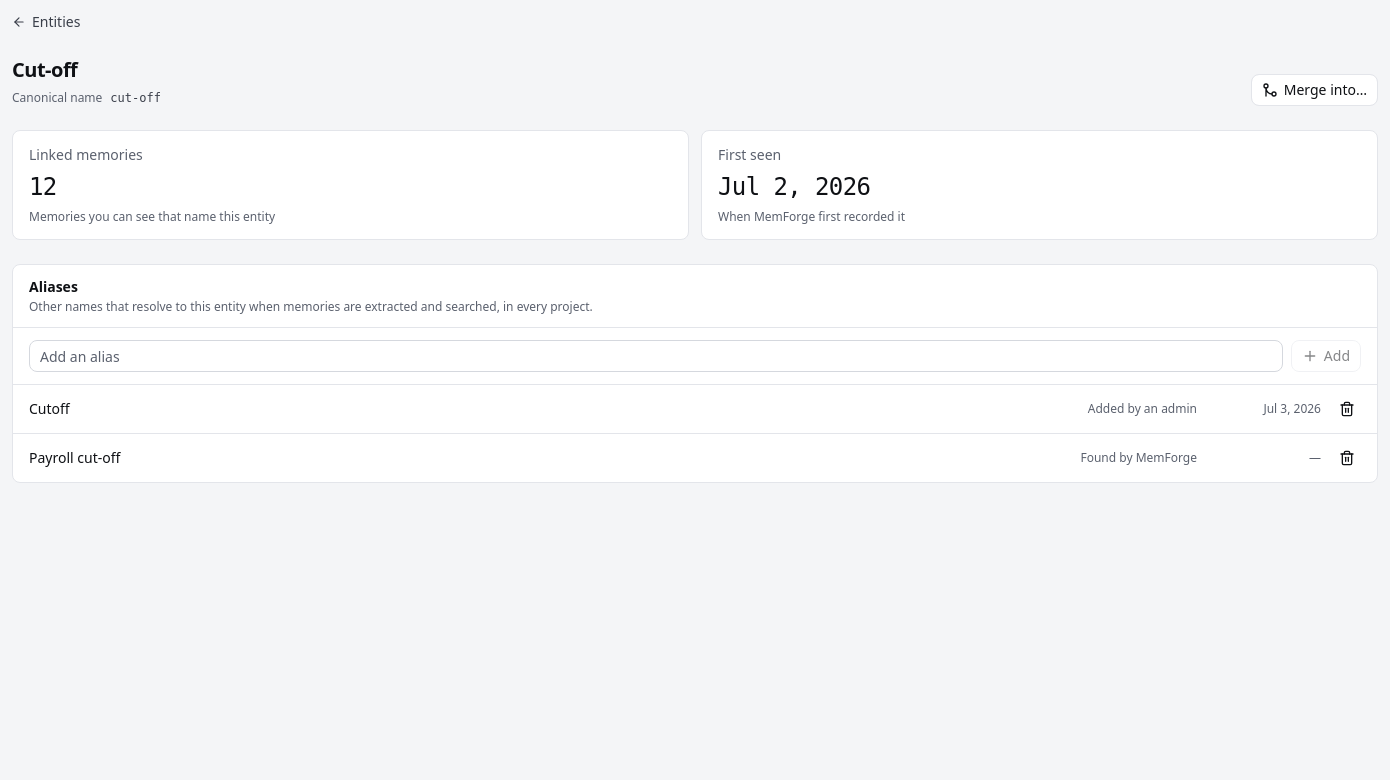
Test: a failed alias change's notice clears when the next change starts
The image size is (1390, 780).
Type "Payroll cutoff" into the field named "New alias" at [656, 356], box [29,340,1283,372]
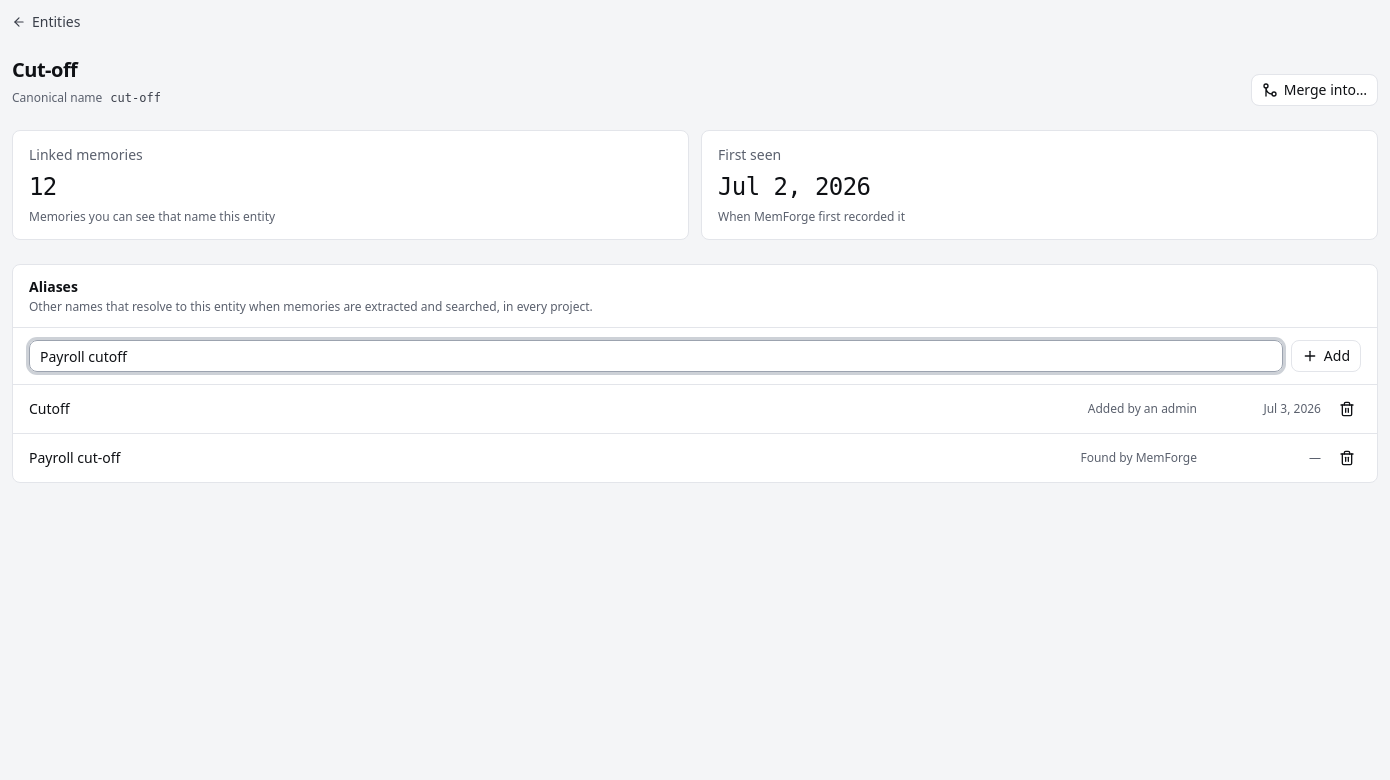
Click the button "Add" at [1326, 356], box [1291,340,1361,372]
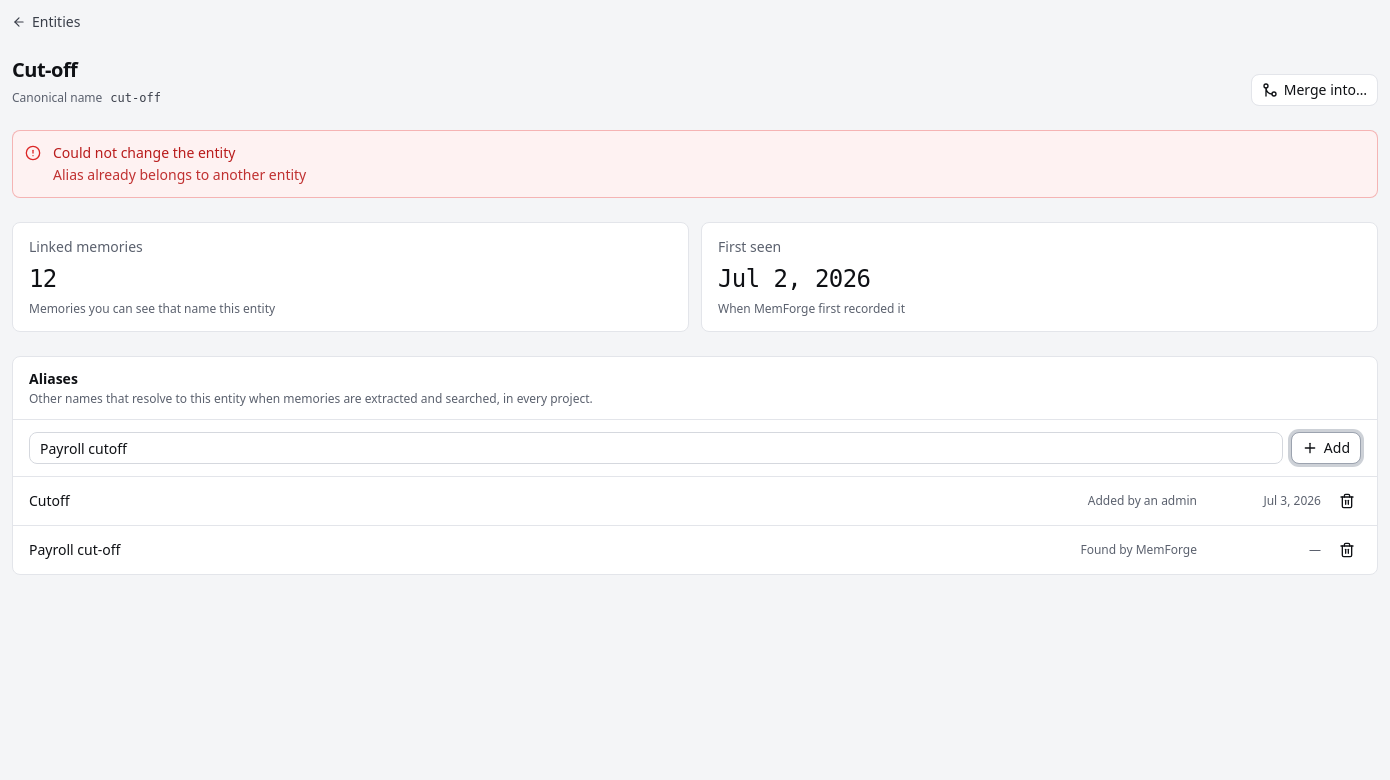
Expected: the message shows "Could not change the entity", [53,143,235,162]
Replace the text in the field named "New alias" with "Cut off date" at [656, 448], box [29,432,1283,464]
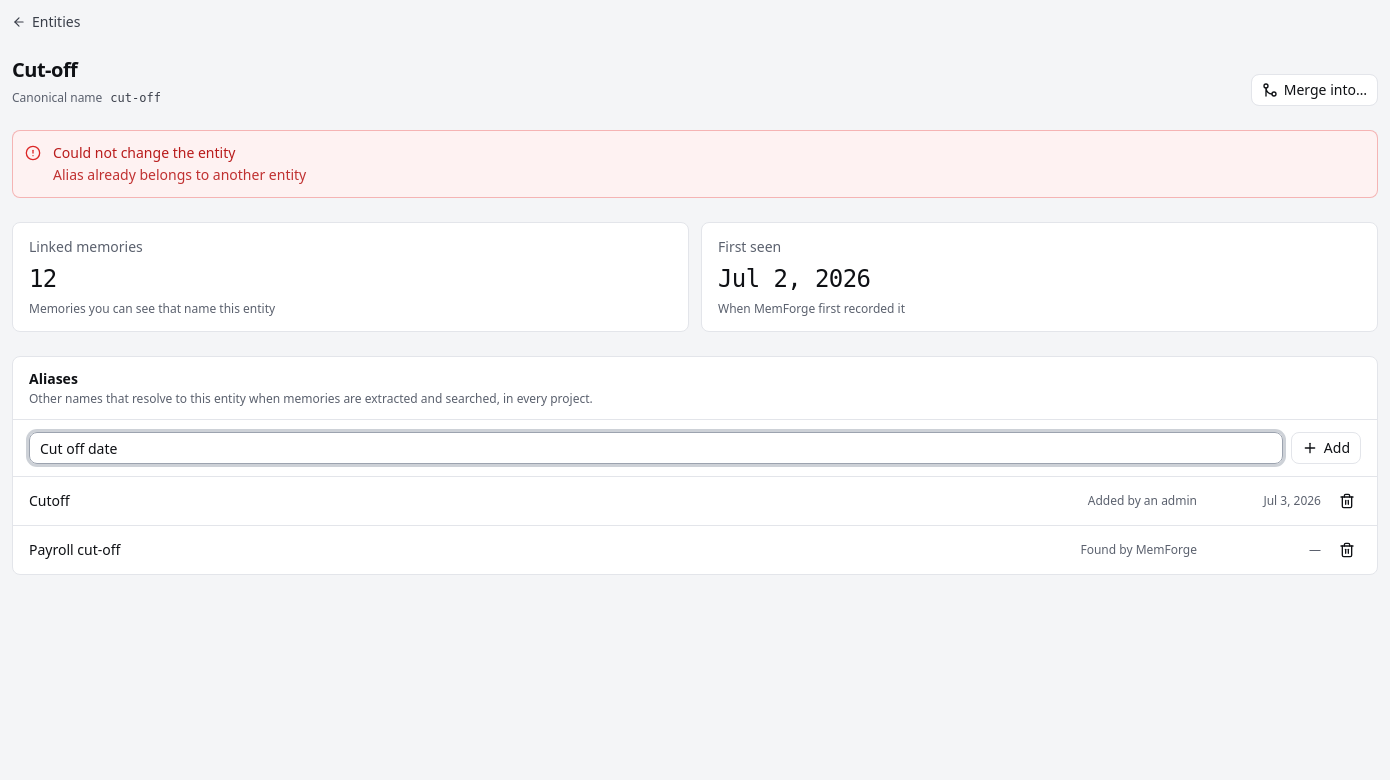
Click the button "Add" at [1326, 448], box [1291,432,1361,464]
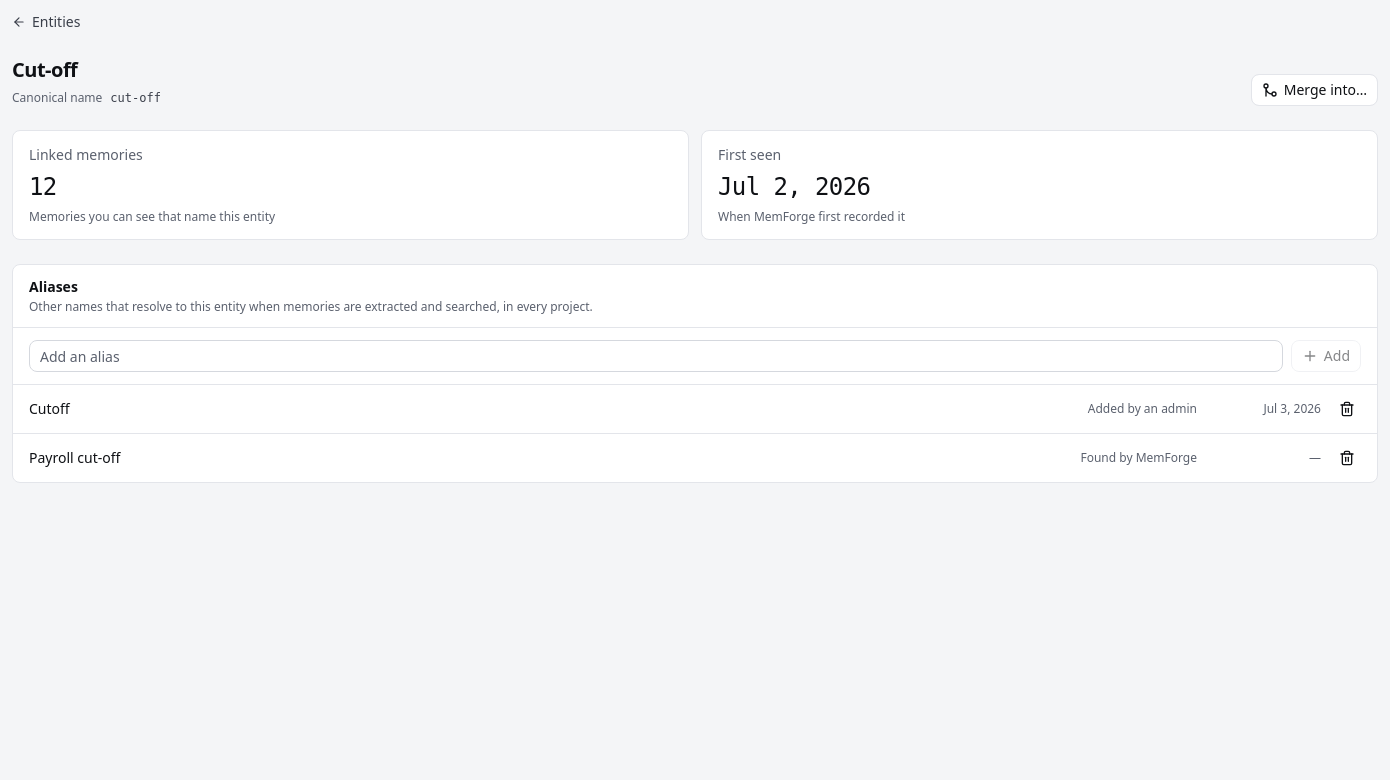
Expected: the message "Could not change the entity Alias already belongs to another entity" is gone
